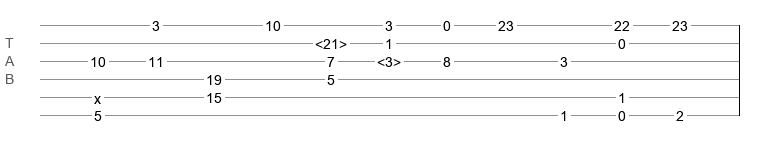0: (443, 18, 451, 28), (618, 36, 626, 46), (618, 108, 626, 118)
1: (385, 36, 393, 46), (560, 108, 568, 118), (618, 90, 626, 100)
10: (90, 54, 106, 64), (265, 18, 281, 28)
11: (148, 54, 164, 64)
15: (206, 90, 222, 100)
19: (206, 72, 222, 82)
2: (676, 108, 684, 118)
22: (614, 18, 630, 28)
23: (498, 18, 514, 28), (672, 18, 688, 28)
3: (152, 18, 160, 28), (385, 18, 393, 28), (560, 54, 568, 64)
5: (94, 108, 102, 118), (327, 72, 335, 82)
7: (327, 54, 335, 64)
8: (443, 54, 451, 64)
harmonic: (315, 36, 347, 46), (377, 54, 401, 64)
x: (94, 91, 101, 99)
